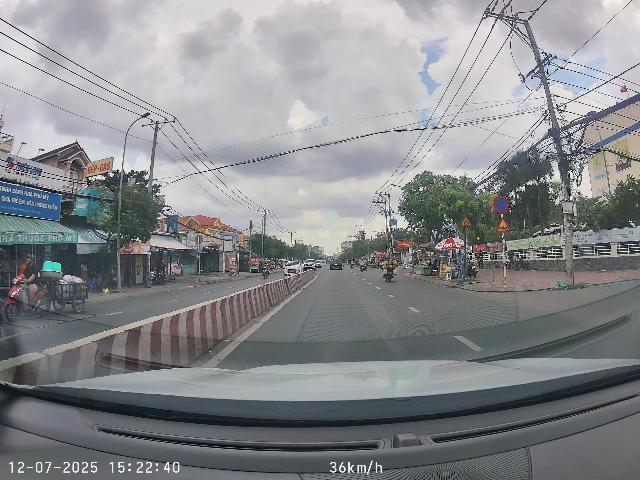131a-cam-do-xe: (493, 195, 509, 214)
225-chu-y-tre-em: (461, 215, 472, 227)
245-di-cham: (496, 217, 510, 232)
